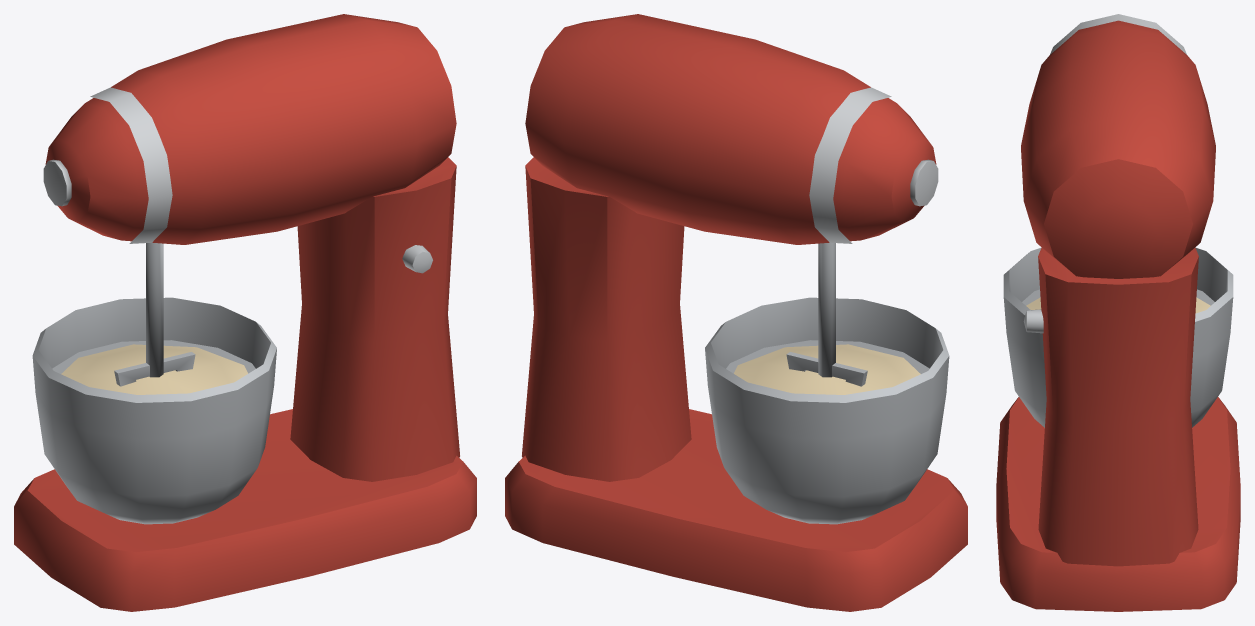
Rendered from standMixer.glb.
The picture shows the model from 3 angles, left to right: view 1: azimuth 30°, elevation 25°; view 2: azimuth 150°, elevation 25°; view 3: azimuth 270°, elevation 25°; orthographic projection. The views are drawn at different scales.
Parts seen in each view (by area): view 1: standMixer; view 2: standMixer; view 3: standMixer.
Boxes of the visible parts, x1,y1,x2,y2 form: standMixer: [14, 14, 476, 611]; standMixer: [505, 14, 967, 611]; standMixer: [996, 14, 1240, 611].
Bounding box in the file's own units: 0.302 × 0.356 × 0.17.
